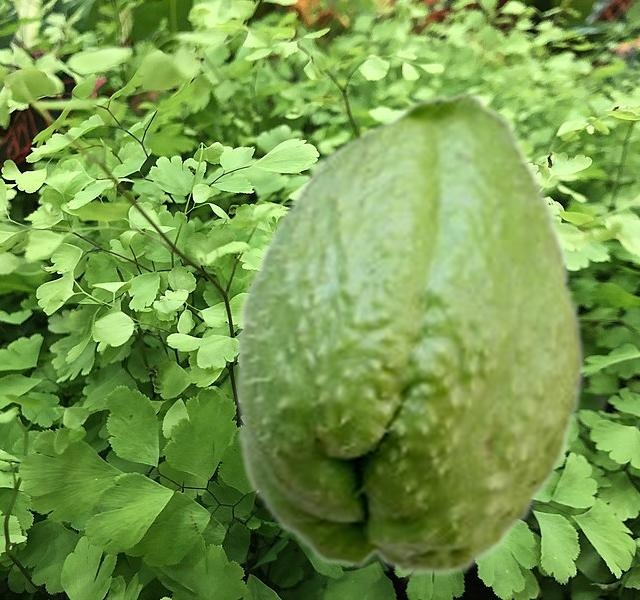sayote: (233, 88, 586, 577)
